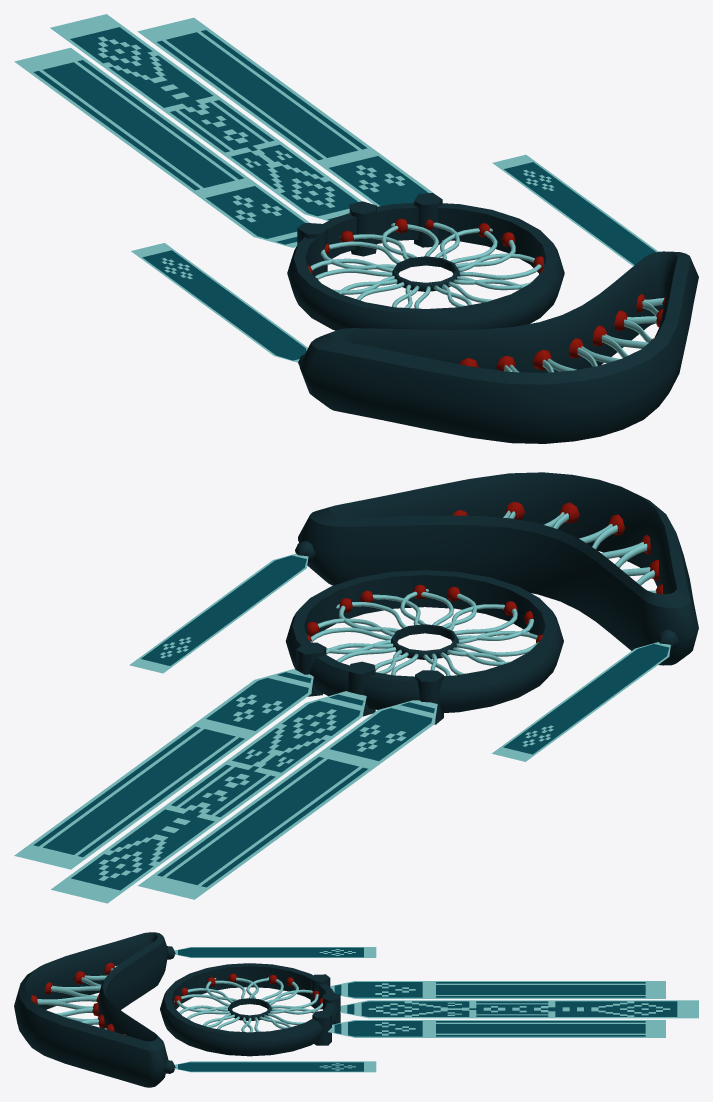
Rendered from MOD_DreamCatcher_Colored.fbx.
The picture shows the model from 3 angles, top to bottom: view 1: azimuth 30°, elevation 25°; view 2: azimuth 150°, elevation 25°; view 3: azimuth 270°, elevation 25°; orthographic projection. The views are drawn at different scales.
Visible parts, largest first — view 1: SM_DreamCatcherHead, SM_DreamCatcherBeentjes, SM_DreamCatcherBelly, SM_DreamCatcherArmpies; view 2: SM_DreamCatcherBeentjes, SM_DreamCatcherHead, SM_DreamCatcherBelly, SM_DreamCatcherArmpies; view 3: SM_DreamCatcherBeentjes, SM_DreamCatcherHead, SM_DreamCatcherBelly, SM_DreamCatcherArmpies.
Part boxes in pixels (x1,y1,x2,y2): SM_DreamCatcherHead: (298,251,698,443); SM_DreamCatcherBeentjes: (14,14,433,247); SM_DreamCatcherBelly: (287,193,564,330); SM_DreamCatcherArmpies: (131,154,658,362); SM_DreamCatcherBeentjes: (14,669,437,903); SM_DreamCatcherHead: (295,472,698,665); SM_DreamCatcherBelly: (285,570,563,724); SM_DreamCatcherArmpies: (129,553,670,761); SM_DreamCatcherBeentjes: (328,981,698,1037); SM_DreamCatcherHead: (14,932,175,1087); SM_DreamCatcherBelly: (160,963,340,1056); SM_DreamCatcherArmpies: (174,947,376,1072).
Size of the model in its own units: 2.77 by 0.4683 by 6.41.
